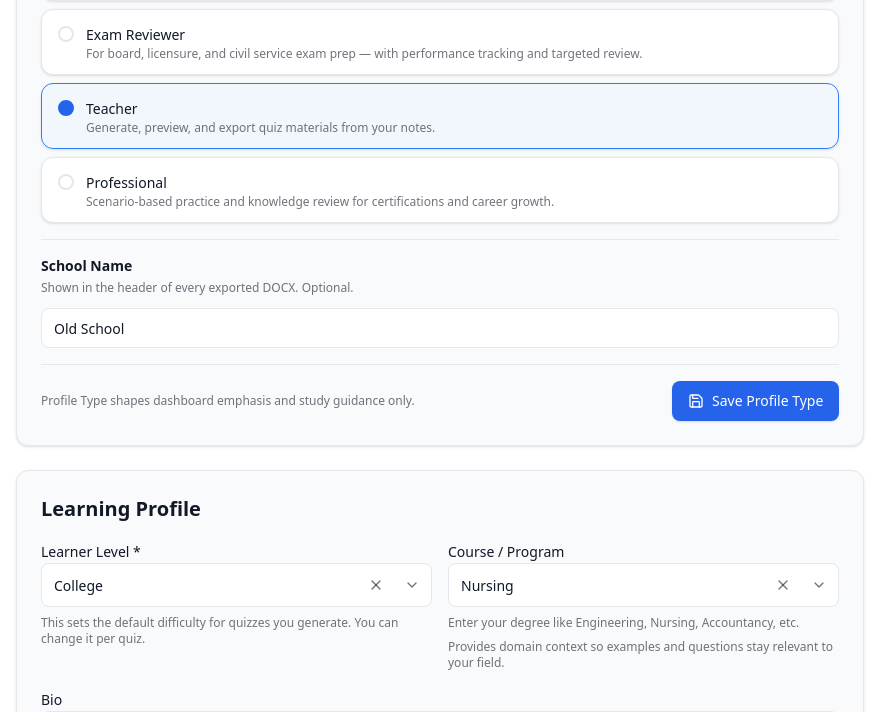
Test: Profile page › shows and saves school name inside the Profile Type card for teacher profiles
(page scrolled)
Replace the text in the field named "School Name" with "NoteLib Academy". click: (440, 328)
box: [41,308,839,348]
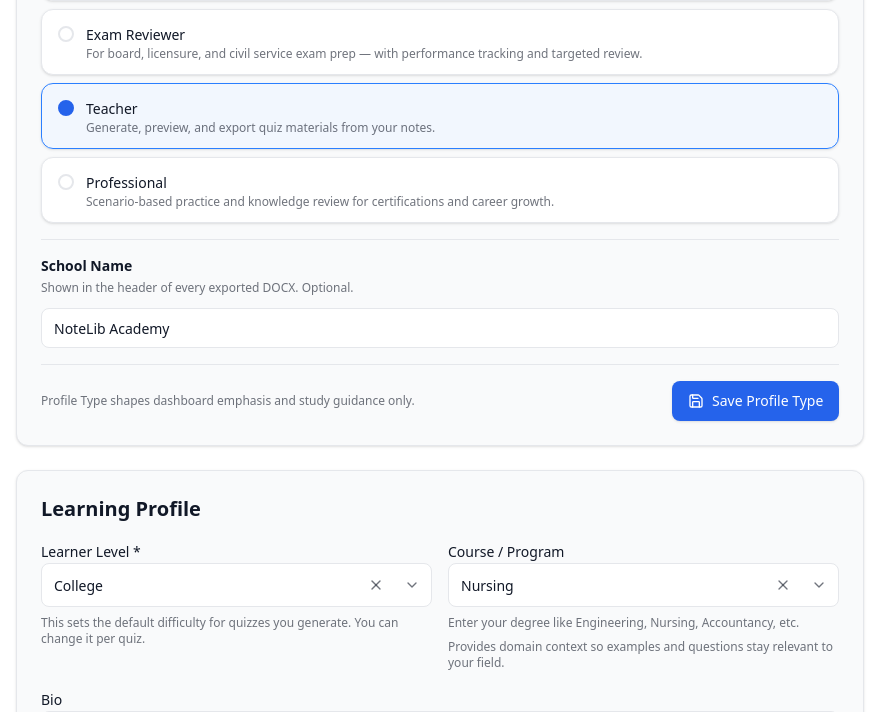
Click the button "Save Profile Type". click: (755, 401)
box: [672,381,839,421]
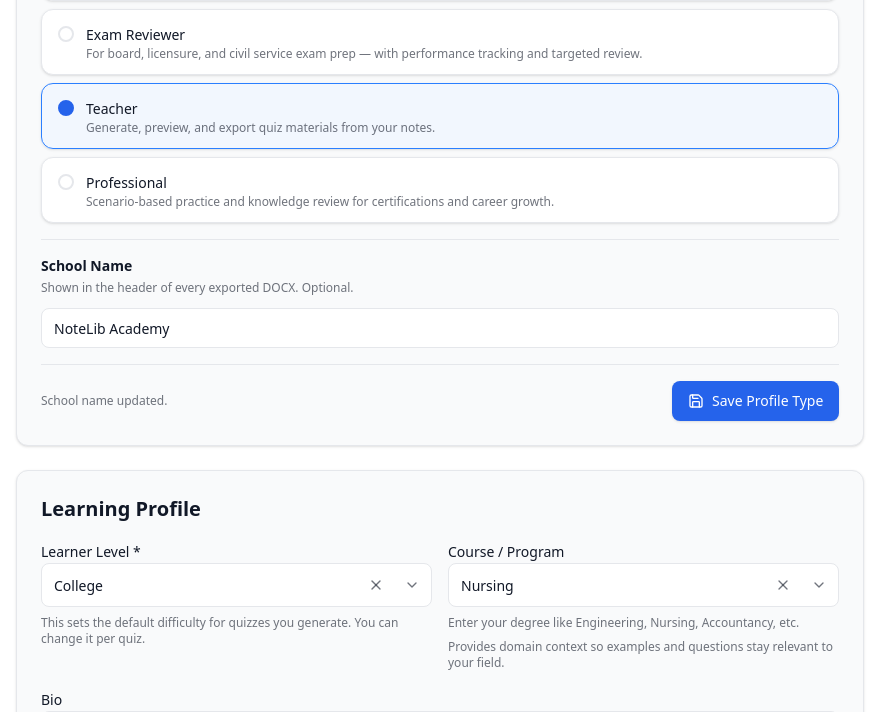
Expected: the text "School name updated." is shown, [41,393,167,409]
